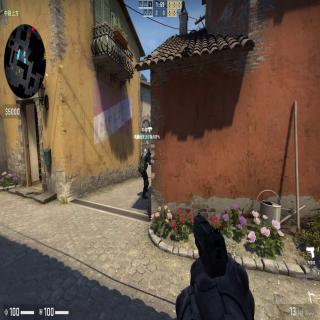CT-Body: (138, 146, 150, 200)
